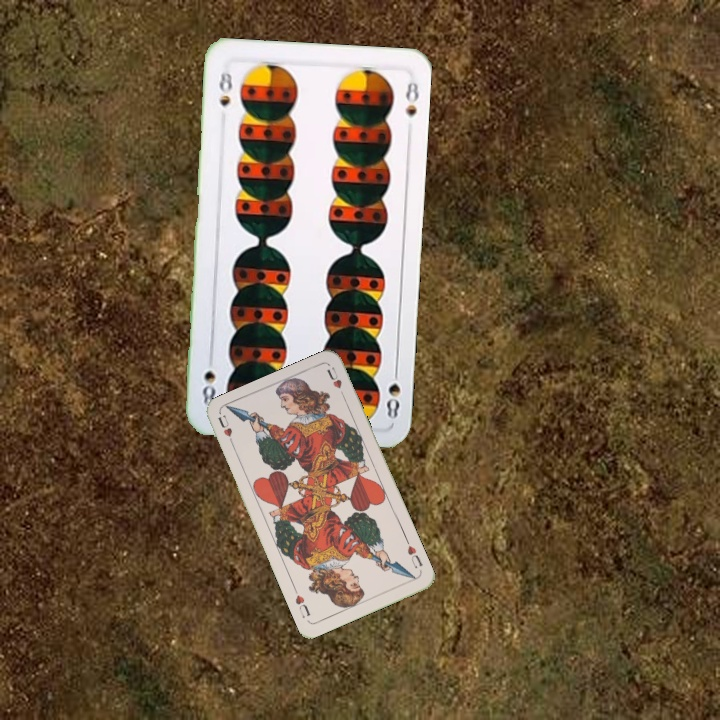HU: (214, 411, 237, 450), (402, 536, 425, 570)
S8: (379, 363, 403, 422), (215, 67, 235, 110)
